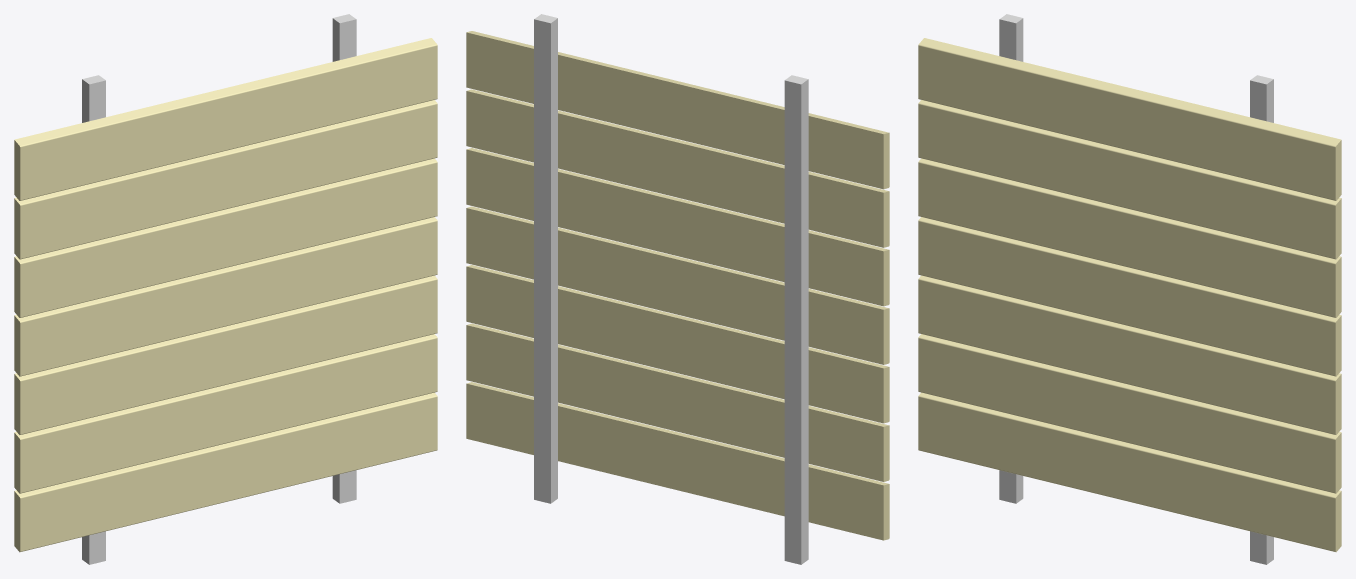
3 renders of one model, left to right at view 1: azimuth 30°, elevation 25°; view 2: azimuth 150°, elevation 25°; view 3: azimuth 330°, elevation 25°, orthographic.
Parts seen in each view (by area): view 1: IfcCovering/Rhomboidschalung, 15°, gerundet.006, IfcCovering/Rhomboidschalung, 15°, gerundet, IfcCovering/Rhomboidschalung, 15°, gerundet.002, IfcCovering/Rhomboidschalung, 15°, gerundet.003, IfcCovering/Rhomboidschalung, 15°, gerundet.004, IfcCovering/Rhomboidschalung, 15°, gerundet.005, IfcCovering/Rhomboidschalung, 15°, gerundet.001, IfcBuildingElementProxy/VerticalElementProxy, IfcBuildingElementProxy/VerticalElementProxy.001; view 2: IfcCovering/Rhomboidschalung, 15°, gerundet.005, IfcCovering/Rhomboidschalung, 15°, gerundet.003, IfcCovering/Rhomboidschalung, 15°, gerundet.004, IfcCovering/Rhomboidschalung, 15°, gerundet.006, IfcCovering/Rhomboidschalung, 15°, gerundet, IfcCovering/Rhomboidschalung, 15°, gerundet.002, IfcCovering/Rhomboidschalung, 15°, gerundet.001, IfcBuildingElementProxy/VerticalElementProxy.001, IfcBuildingElementProxy/VerticalElementProxy; view 3: IfcCovering/Rhomboidschalung, 15°, gerundet.006, IfcCovering/Rhomboidschalung, 15°, gerundet, IfcCovering/Rhomboidschalung, 15°, gerundet.002, IfcCovering/Rhomboidschalung, 15°, gerundet.003, IfcCovering/Rhomboidschalung, 15°, gerundet.004, IfcCovering/Rhomboidschalung, 15°, gerundet.005, IfcCovering/Rhomboidschalung, 15°, gerundet.001, IfcBuildingElementProxy/VerticalElementProxy.001, IfcBuildingElementProxy/VerticalElementProxy.
Boxes of the visible parts, x1,y1,x2,y2 form: IfcCovering/Rhomboidschalung, 15°, gerundet.006: [14, 38, 437, 200]; IfcCovering/Rhomboidschalung, 15°, gerundet: [14, 392, 437, 552]; IfcCovering/Rhomboidschalung, 15°, gerundet.002: [14, 275, 437, 434]; IfcCovering/Rhomboidschalung, 15°, gerundet.003: [14, 217, 437, 376]; IfcCovering/Rhomboidschalung, 15°, gerundet.004: [14, 158, 437, 317]; IfcCovering/Rhomboidschalung, 15°, gerundet.005: [14, 100, 437, 259]; IfcCovering/Rhomboidschalung, 15°, gerundet.001: [14, 334, 437, 493]; IfcBuildingElementProxy/VerticalElementProxy: [332, 14, 356, 503]; IfcBuildingElementProxy/VerticalElementProxy.001: [82, 75, 105, 564]; IfcCovering/Rhomboidschalung, 15°, gerundet.005: [466, 89, 889, 247]; IfcCovering/Rhomboidschalung, 15°, gerundet.003: [466, 206, 889, 364]; IfcCovering/Rhomboidschalung, 15°, gerundet.004: [466, 148, 889, 306]; IfcCovering/Rhomboidschalung, 15°, gerundet.006: [466, 31, 889, 189]; IfcCovering/Rhomboidschalung, 15°, gerundet: [466, 382, 889, 540]; IfcCovering/Rhomboidschalung, 15°, gerundet.002: [466, 265, 889, 423]; IfcCovering/Rhomboidschalung, 15°, gerundet.001: [466, 323, 889, 481]; IfcBuildingElementProxy/VerticalElementProxy.001: [784, 75, 808, 564]; IfcBuildingElementProxy/VerticalElementProxy: [534, 14, 557, 503]; IfcCovering/Rhomboidschalung, 15°, gerundet.006: [918, 38, 1341, 200]; IfcCovering/Rhomboidschalung, 15°, gerundet: [918, 392, 1341, 552]; IfcCovering/Rhomboidschalung, 15°, gerundet.002: [918, 275, 1341, 434]; IfcCovering/Rhomboidschalung, 15°, gerundet.003: [918, 217, 1341, 376]; IfcCovering/Rhomboidschalung, 15°, gerundet.004: [918, 158, 1341, 317]; IfcCovering/Rhomboidschalung, 15°, gerundet.005: [918, 100, 1341, 259]; IfcCovering/Rhomboidschalung, 15°, gerundet.001: [918, 334, 1341, 493]; IfcBuildingElementProxy/VerticalElementProxy.001: [999, 14, 1023, 503]; IfcBuildingElementProxy/VerticalElementProxy: [1250, 75, 1273, 564].
Size of the model in its own units: 1 by 1.1 by 0.055.
